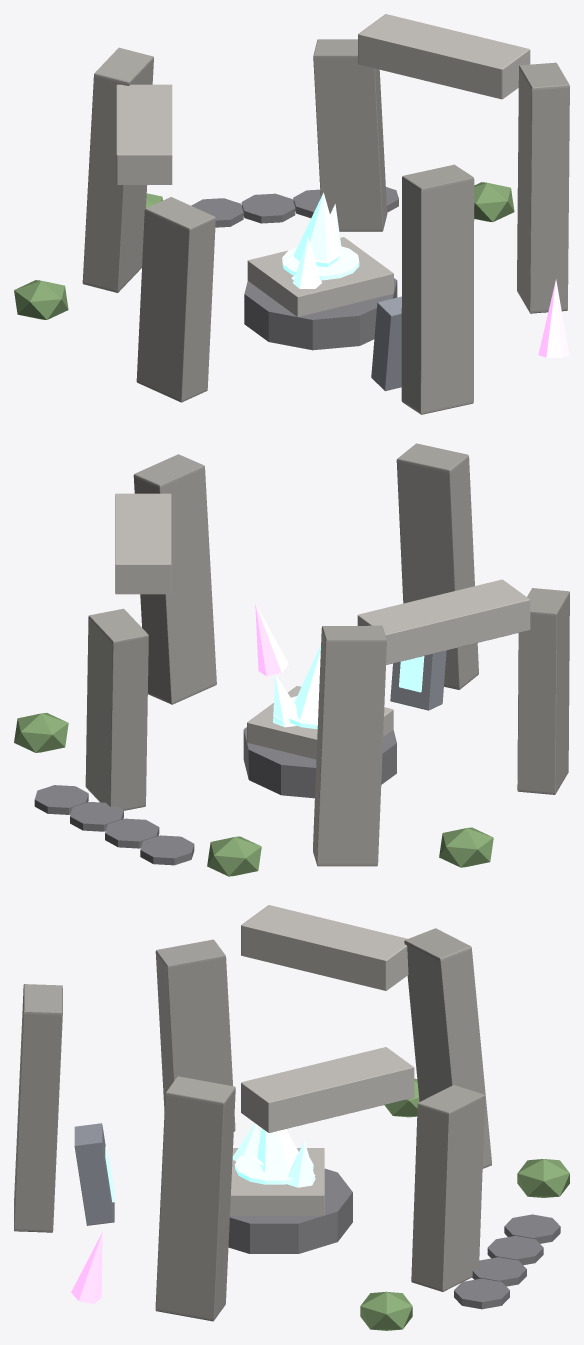
File: loreSite.glb
The picture shows the model from 3 angles, top to bottom: view 1: azimuth 30°, elevation 25°; view 2: azimuth 150°, elevation 25°; view 3: azimuth 270°, elevation 25°; orthographic projection.
Visible parts, largest first — view 1: ls_stone0, ls_stone4, ls_stone1, ls_stone2, ls_stone3, ls_lintel1, ls_lintel2, ls_altar_base, ls_altar_top, ls_rune_stone, ls_shrub1, ls_cry0 (+7 smaller); view 2: ls_stone3, ls_stone1, ls_stone0, ls_stone2, ls_stone4, ls_lintel2, ls_lintel1, ls_altar_base, ls_altar_top, ls_rune_stone, ls_shrub1, ls_shrub2 (+9 smaller); view 3: ls_stone1, ls_stone2, ls_stone3, ls_stone0, ls_stone4, ls_lintel1, ls_lintel2, ls_altar_base, ls_altar_top, ls_rune_stone, ls_shrub0, ls_shrub2 (+10 smaller).
Boxes of the visible parts, <box> form: ls_stone0: <box>401,164,474,414</box>; ls_stone4: <box>136,197,215,402</box>; ls_stone1: <box>517,62,569,313</box>; ls_stone2: <box>313,39,387,231</box>; ls_stone3: <box>82,47,153,292</box>; ls_lintel1: <box>358,14,530,99</box>; ls_lintel2: <box>116,84,172,184</box>; ls_altar_base: <box>244,278,397,350</box>; ls_altar_top: <box>247,237,393,316</box>; ls_rune_stone: <box>371,296,401,391</box>; ls_shrub1: <box>14,280,68,319</box>; ls_cry0: <box>293,192,342,263</box>; ls_stone3: <box>313,625,386,866</box>; ls_stone1: <box>133,454,216,704</box>; ls_stone0: <box>396,443,478,689</box>; ls_stone2: <box>85,608,148,810</box>; ls_stone4: <box>517,588,569,794</box>; ls_lintel2: <box>357,579,530,664</box>; ls_lintel1: <box>115,493,171,594</box>; ls_altar_base: <box>243,727,396,798</box>; ls_altar_top: <box>247,686,393,759</box>; ls_rune_stone: <box>390,650,446,710</box>; ls_shrub1: <box>439,827,493,867</box>; ls_shrub2: <box>207,836,261,876</box>; ls_stone1: <box>155,1076,235,1321</box>; ls_stone2: <box>411,1085,485,1291</box>; ls_stone3: <box>404,928,491,1168</box>; ls_stone0: <box>14,984,62,1232</box>; ls_stone4: <box>155,939,235,1131</box>; ls_lintel1: <box>241,1047,414,1132</box>; ls_lintel2: <box>241,905,408,990</box>; ls_altar_base: <box>228,1168,352,1253</box>; ls_altar_top: <box>230,1148,324,1215</box>; ls_rune_stone: <box>74,1123,114,1225</box>; ls_shrub0: <box>360,1291,412,1330</box>; ls_shrub2: <box>517,1159,569,1197</box>.
Bounding box in the file's own units: 0.9984 × 0.4606 × 0.9903.
